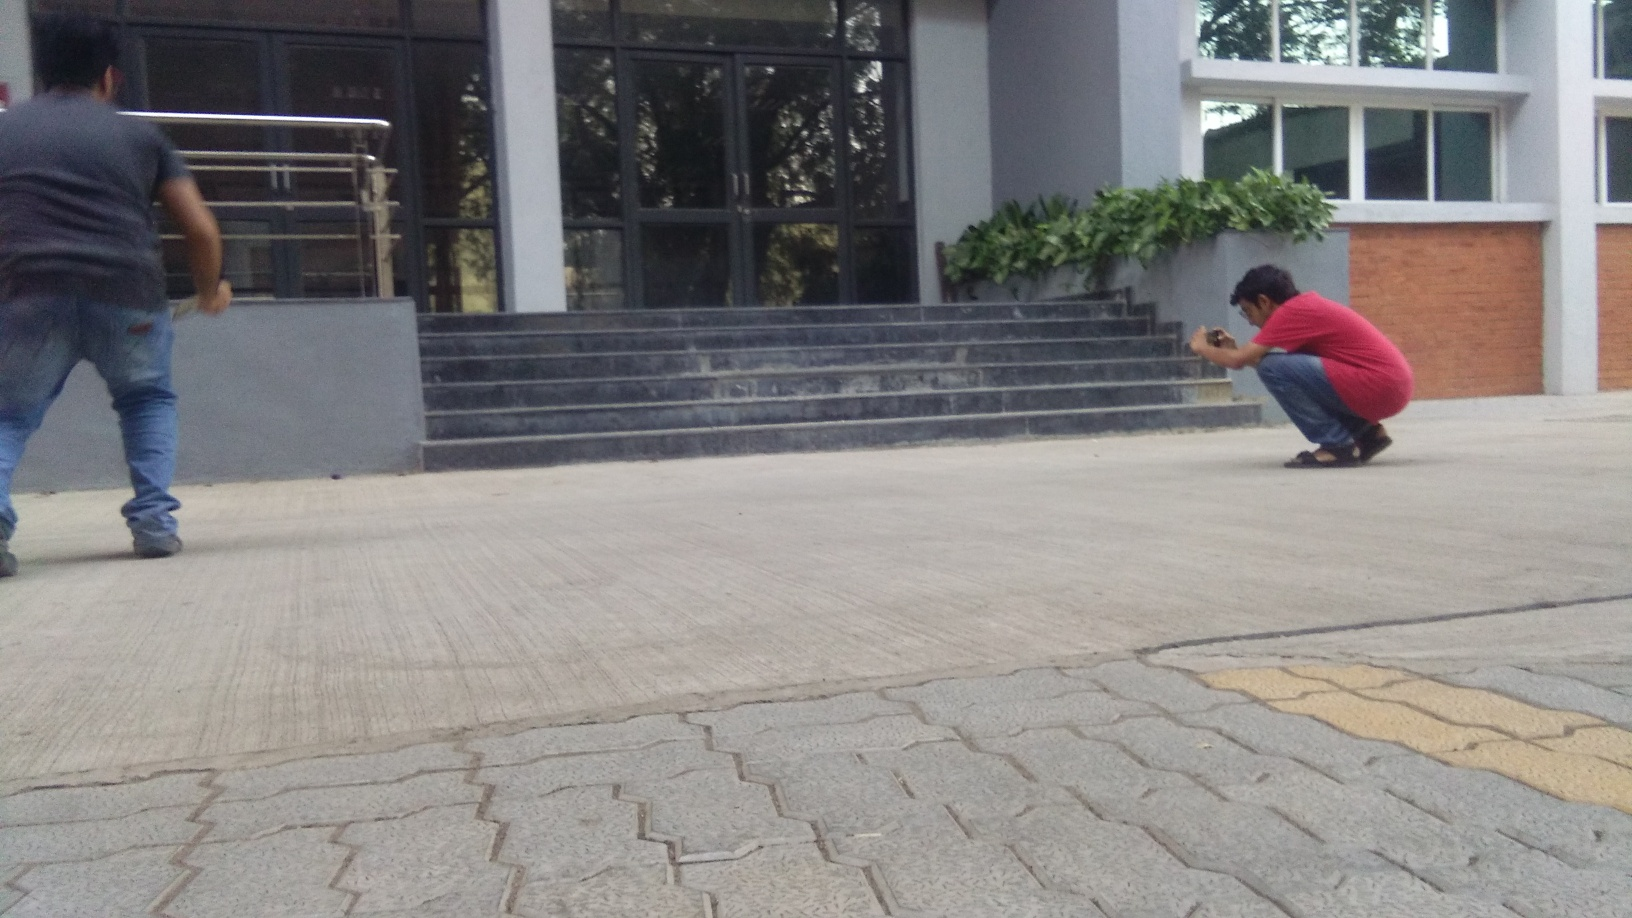stairs_up: (425, 305, 1216, 457)
